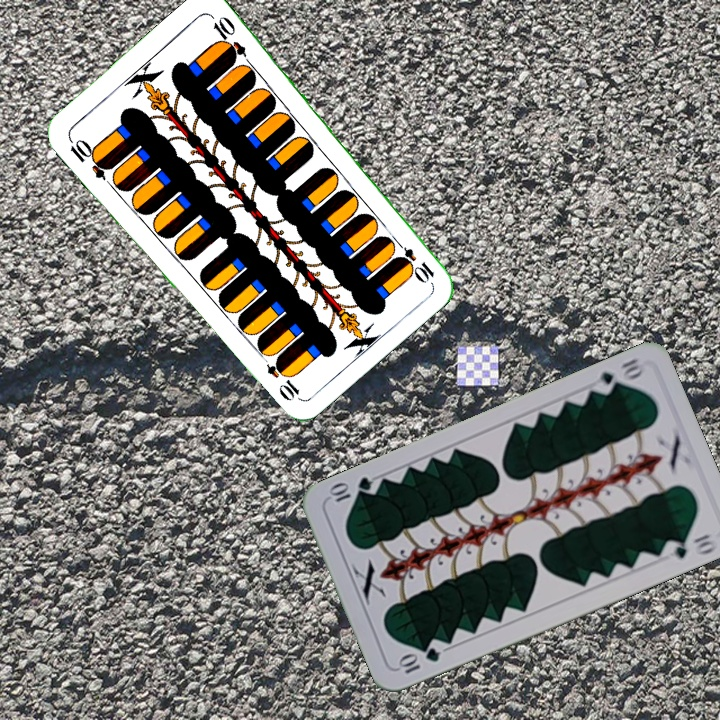E10: (64, 133, 114, 182), (389, 235, 437, 284)
G10: (592, 354, 646, 397), (394, 643, 443, 677)
